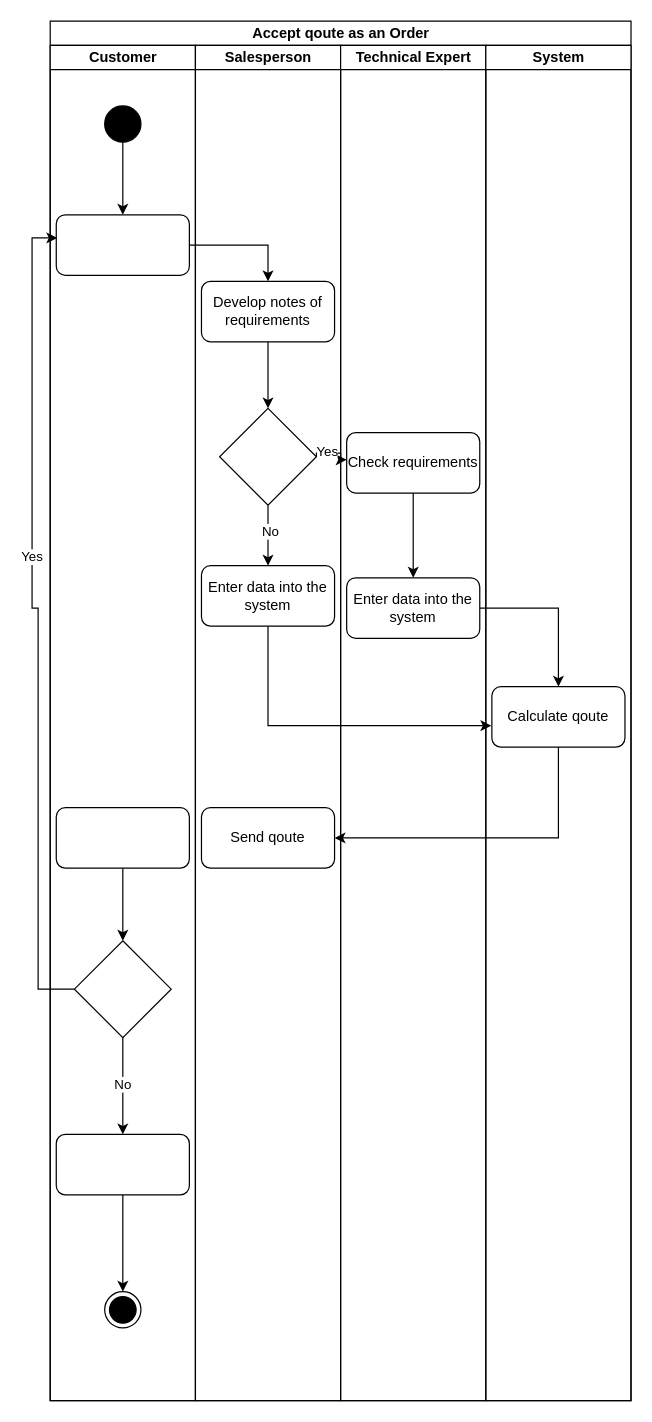
Image size: 652x1422. Some labels were removed from this diagram. Each missing label, with the centre of its shape:
Accept qoute as order: point (122, 1164)
Ask for help?: point (267, 456)
Changes Needed?: point (122, 989)
Request qoute: point (122, 244)
Review qoute: point (122, 837)
